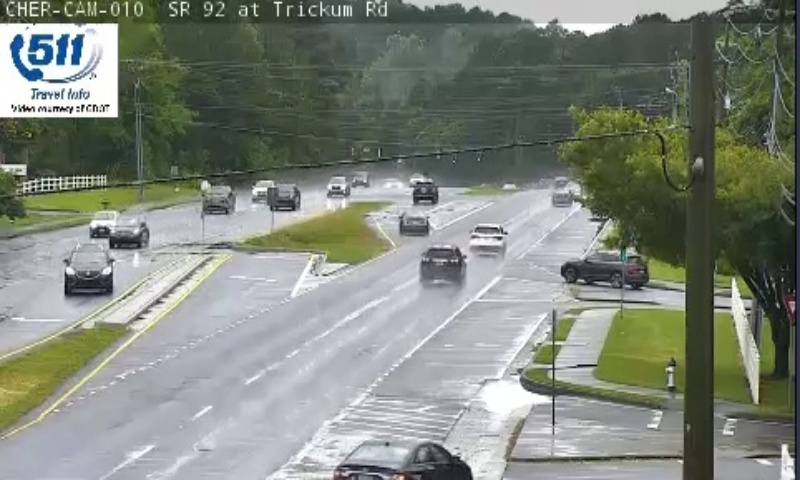car: (419, 243, 464, 281), (468, 223, 506, 252), (400, 209, 429, 234)
